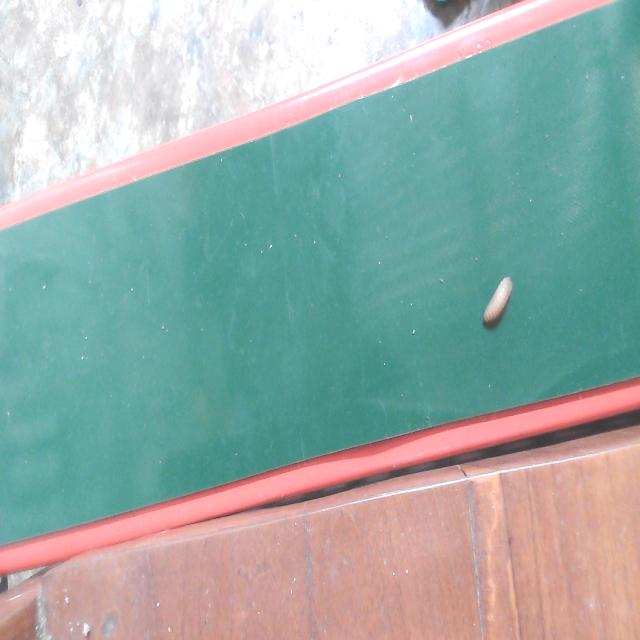Maggot: (481, 279, 513, 331)
